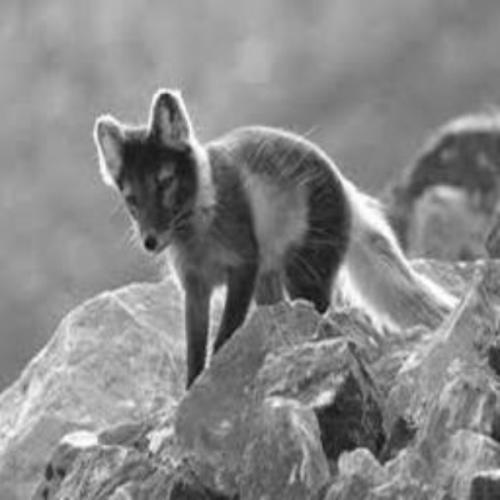arctic_fox-endangered: (94, 88, 462, 399)
